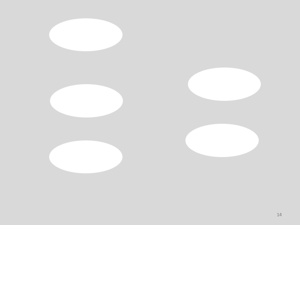round: (184, 120, 261, 162), (46, 81, 128, 120), (46, 15, 127, 54), (46, 138, 128, 175), (187, 65, 263, 103)
